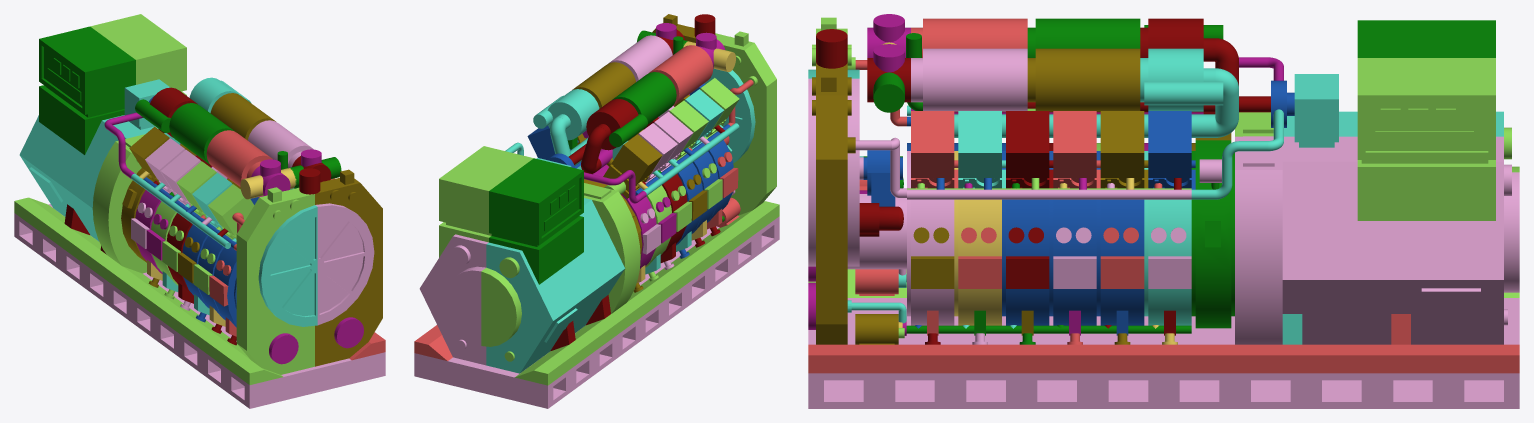
The picture shows the model from 3 angles, left to right: view 1: azimuth 30°, elevation 25°; view 2: azimuth 150°, elevation 25°; view 3: azimuth 270°, elevation 25°; orthographic projection. The views are drawn at different scales.
Visible parts, largest first — view 1: Gruppe_2_001, Group_041, Group_008, Group_035, Group_011, Group_026, Group_118, Group_127, Group_133, Gruppe_89_001, Gruppe_108_001, Gruppe_108_002 (+36 smaller); view 2: Group_011, Gruppe_2_001, Group_041, Group_008, Gruppe_89_001, Group_035, Group_133, Group_103, Gruppe_89_003, Group_120, Group_028, Gruppe_108_001 (+34 smaller); view 3: Group_103, Gruppe_2_001, Group_133, Group_006, Gruppe_89_003, Group_127, Gruppe_108_003, Gruppe_108_004, Group_102, Group_041, Group_164, Group_120 (+44 smaller).
Boxes of the visible parts, x1=… form: Gruppe_2_001: x1=14, y1=204, x2=385, y2=408; Group_041: x1=39, y1=26, x2=135, y2=154; Group_008: x1=14, y1=197, x2=283, y2=384; Group_035: x1=236, y1=187, x2=314, y2=374; Group_011: x1=19, y1=115, x2=158, y2=241; Group_026: x1=258, y1=205, x2=317, y2=326; Group_118: x1=315, y1=203, x2=374, y2=325; Group_127: x1=315, y1=169, x2=382, y2=366; Group_133: x1=90, y1=14, x2=186, y2=95; Gruppe_89_001: x1=92, y1=134, x2=146, y2=273; Gruppe_108_001: x1=206, y1=130, x2=272, y2=186; Gruppe_108_002: x1=169, y1=103, x2=234, y2=164; Group_011: x1=486, y1=198, x2=624, y2=373; Gruppe_2_001: x1=414, y1=216, x2=779, y2=408; Group_041: x1=489, y1=158, x2=583, y2=284; Group_008: x1=515, y1=201, x2=779, y2=385; Gruppe_89_001: x1=481, y1=183, x2=640, y2=361; Group_035: x1=715, y1=31, x2=776, y2=215; Group_133: x1=439, y1=146, x2=533, y2=257; Group_103: x1=419, y1=234, x2=488, y2=365; Gruppe_89_003: x1=445, y1=245, x2=485, y2=349; Group_120: x1=547, y1=89, x2=599, y2=165; Group_028: x1=581, y1=98, x2=638, y2=173; Gruppe_108_001: x1=648, y1=45, x2=713, y2=105; Group_103: x1=1282, y1=136, x2=1503, y2=344; Gruppe_2_001: x1=808, y1=298, x2=1519, y2=408; Group_133: x1=1357, y1=58, x2=1495, y2=220; Group_006: x1=808, y1=344, x2=1519, y2=373; Gruppe_89_003: x1=1235, y1=136, x2=1519, y2=344; Group_127: x1=812, y1=62, x2=855, y2=344; Gruppe_108_003: x1=911, y1=48, x2=1027, y2=111; Gruppe_108_004: x1=1027, y1=48, x2=1140, y2=111; Group_102: x1=1191, y1=140, x2=1234, y2=328; Group_041: x1=1357, y1=20, x2=1495, y2=57; Group_164: x1=1096, y1=151, x2=1144, y2=325; Group_120: x1=1140, y1=48, x2=1238, y2=137.
Bounding box in the file's own units: 60 × 90.19 × 180.
